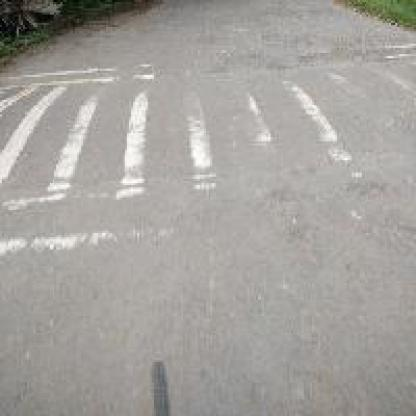Speed Bump: (6, 44, 408, 250)
